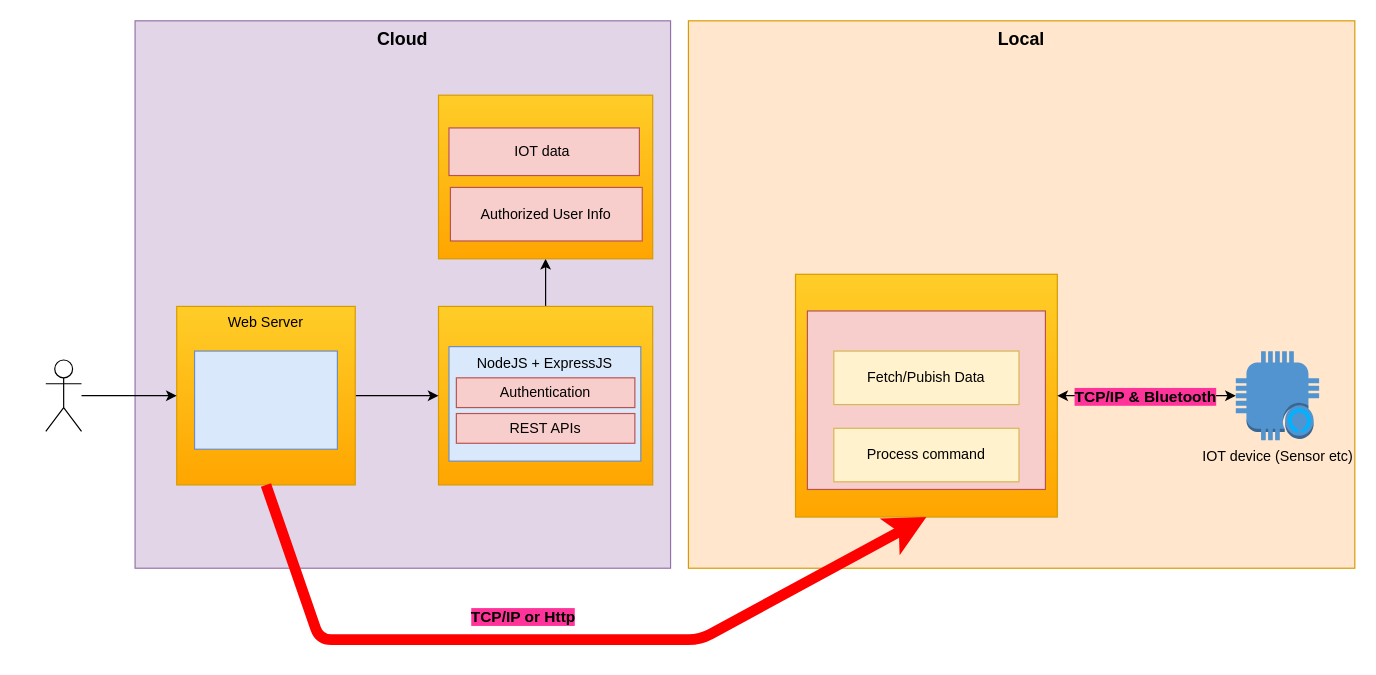
Some shapes in this 1376 by 675 pixel diagram are drawn without their labels. The box of each missing label's shape, as (x1, y1, x2, y2) in pixels:
Backend Server: (437, 305, 653, 485)
Flask + Socket: (806, 310, 1045, 489)
MongoDB: (437, 94, 653, 259)
React: (193, 350, 337, 449)
User Browser: (45, 359, 82, 431)
Verifier (Hub): (794, 273, 1057, 517)
